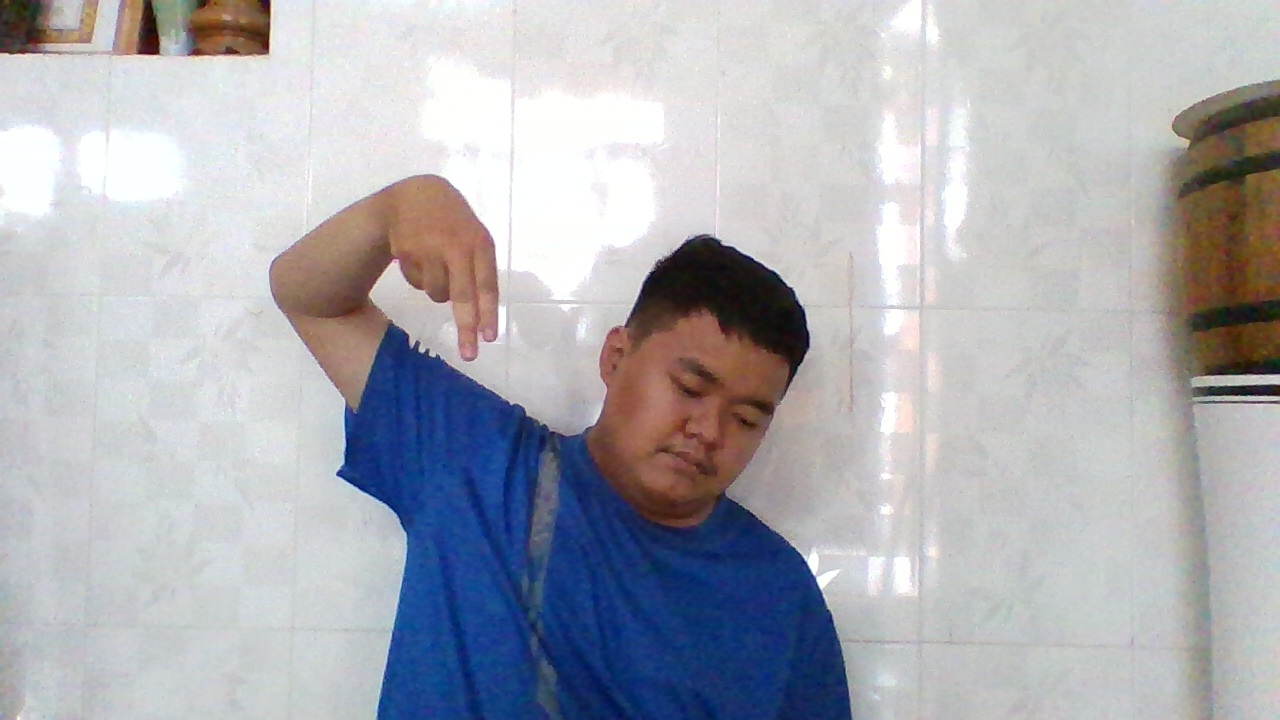N: (386, 164, 506, 370)
